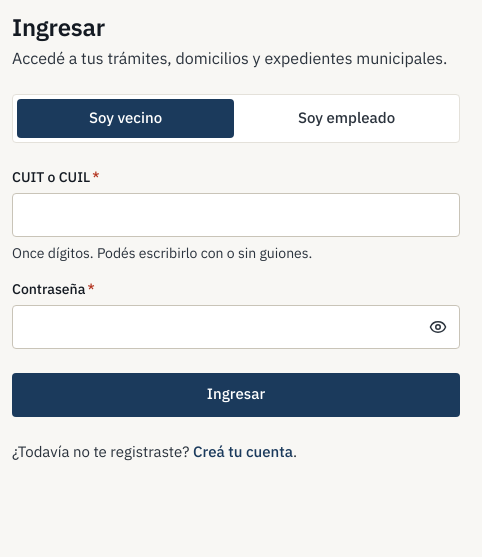
Test: ingreso de vecino › un 401 dice que la contraseña está mal, no que venció la sesión
Type "20345678901" into the field labelled "CUIT o CUIL".
click(236, 214); type("20345678901")  # box [12,192,460,236]
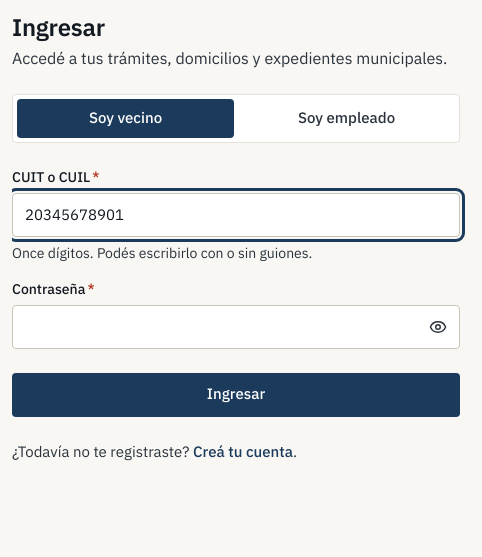
Type "mal" into the password field labelled "Contraseña".
click(236, 326); type("mal")  # box [12,304,460,348]
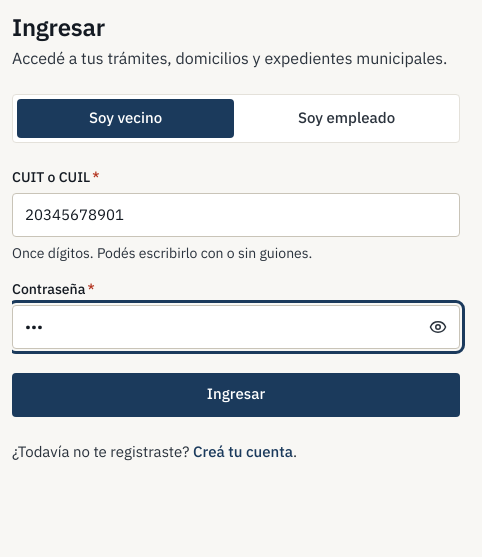
Click the button "Ingresar".
click(236, 394)  # box [12,372,460,416]
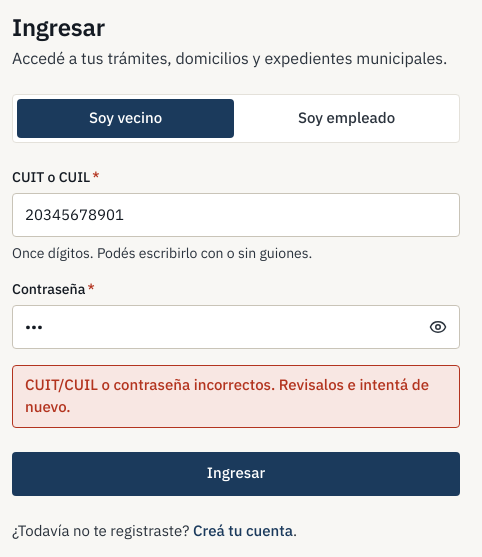
expect the message does not show "sesión": met, box [12,364,460,428]
expect the message shows "contraseña incorrectos": met, box [25,374,429,416]
